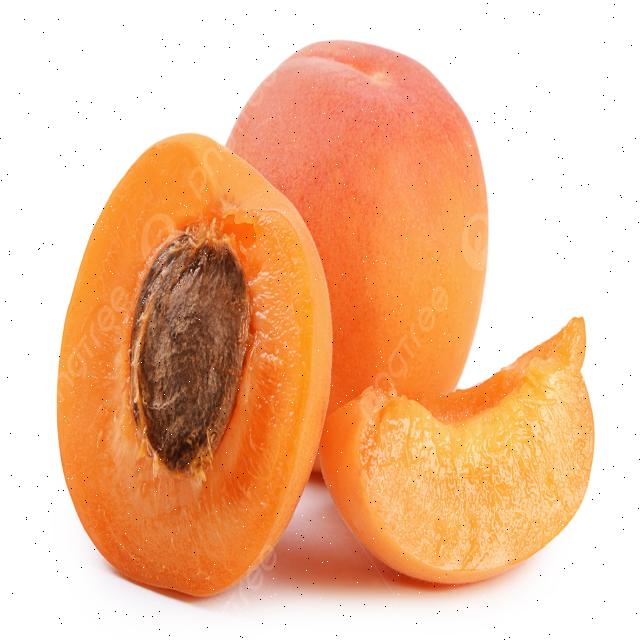Cekirdek: (131, 234, 249, 469)
Kayisi: (57, 134, 333, 595), (226, 42, 487, 415), (320, 318, 594, 582)
